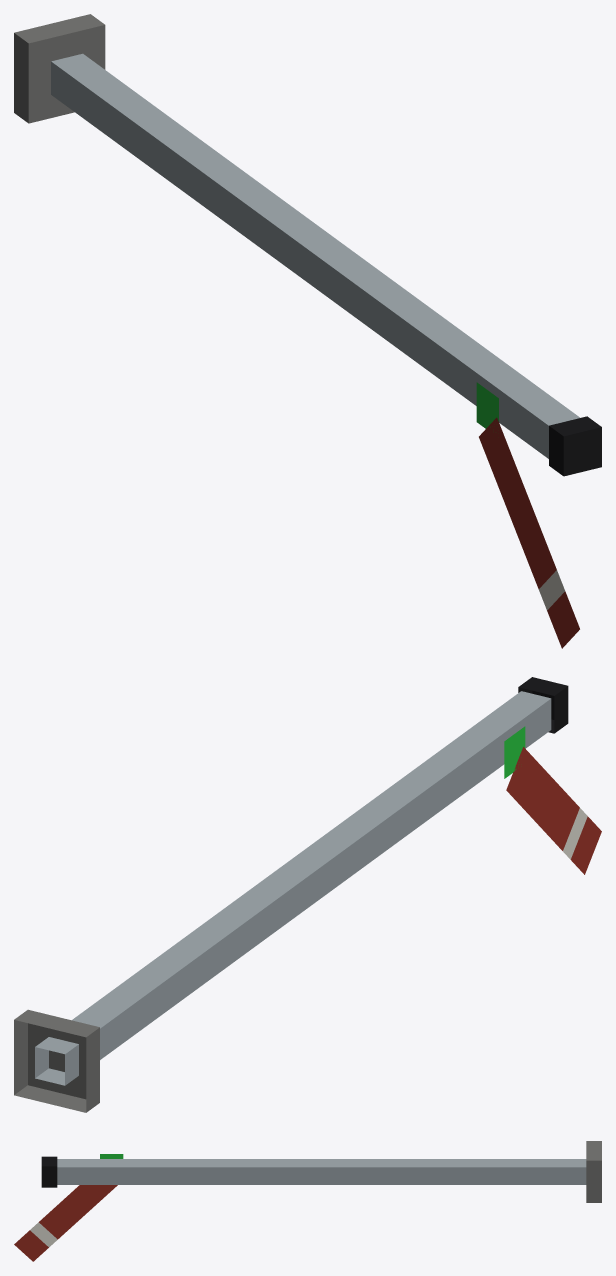
The model's file is green.glb.
The picture shows the model from 3 angles, top to bottom: view 1: azimuth 30°, elevation 25°; view 2: azimuth 150°, elevation 25°; view 3: azimuth 270°, elevation 25°; orthographic projection. The views are drawn at different scales.
Parts seen in each view (by area): view 1: signal_semaphore_block_green; view 2: signal_semaphore_block_green; view 3: signal_semaphore_block_green.
Part boxes in pixels (x1,y1,x2,y2): signal_semaphore_block_green: (14,14,601,648); signal_semaphore_block_green: (14,677,601,1112); signal_semaphore_block_green: (14,1141,601,1261).
Bounding box in the file's own units: 1.2 × 3.36 × 15.11.
